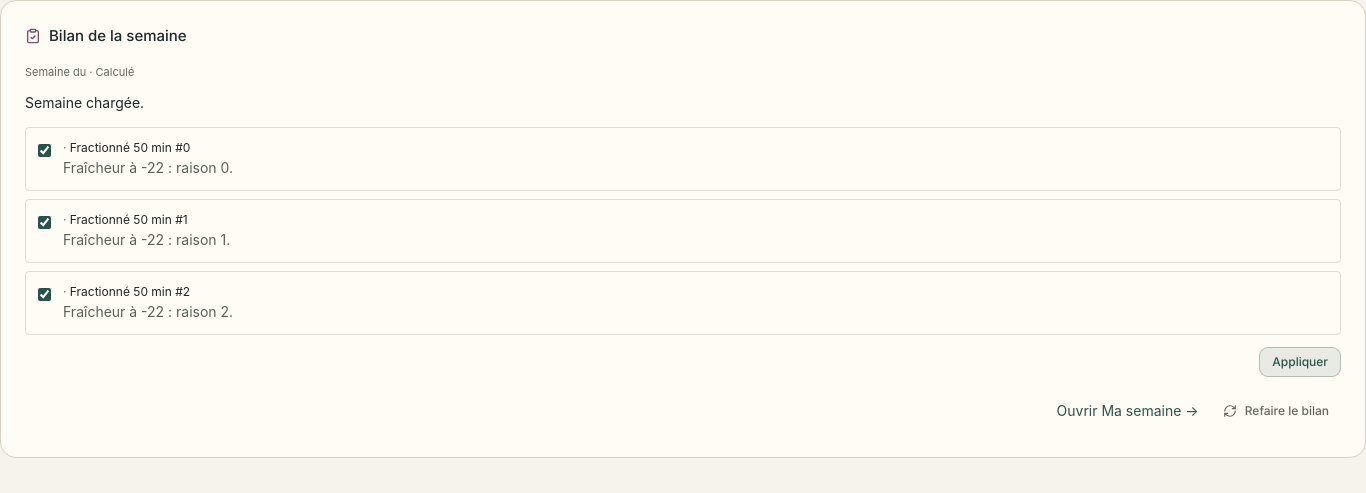
applies the ticked proposals and refreshes the planned sessions
Click the checkbox labelled "· Fractionné 50 min #1 Fraîcheur à -22 : raison 1." at (44, 222), box [38,216,51,229]
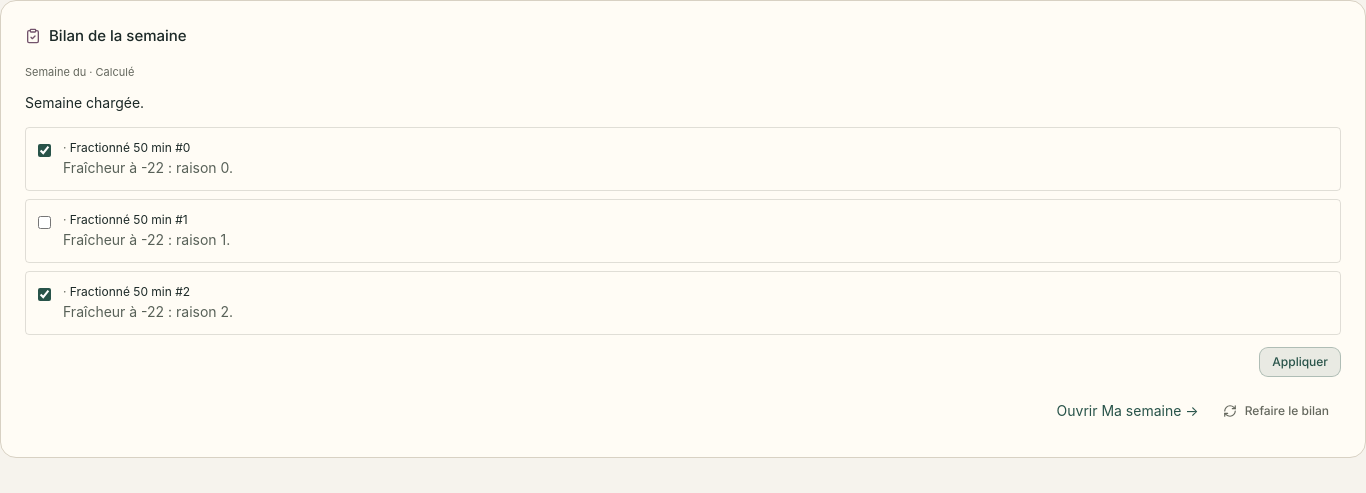
Click the button "Appliquer" at (1300, 362), box [1259,347,1341,377]
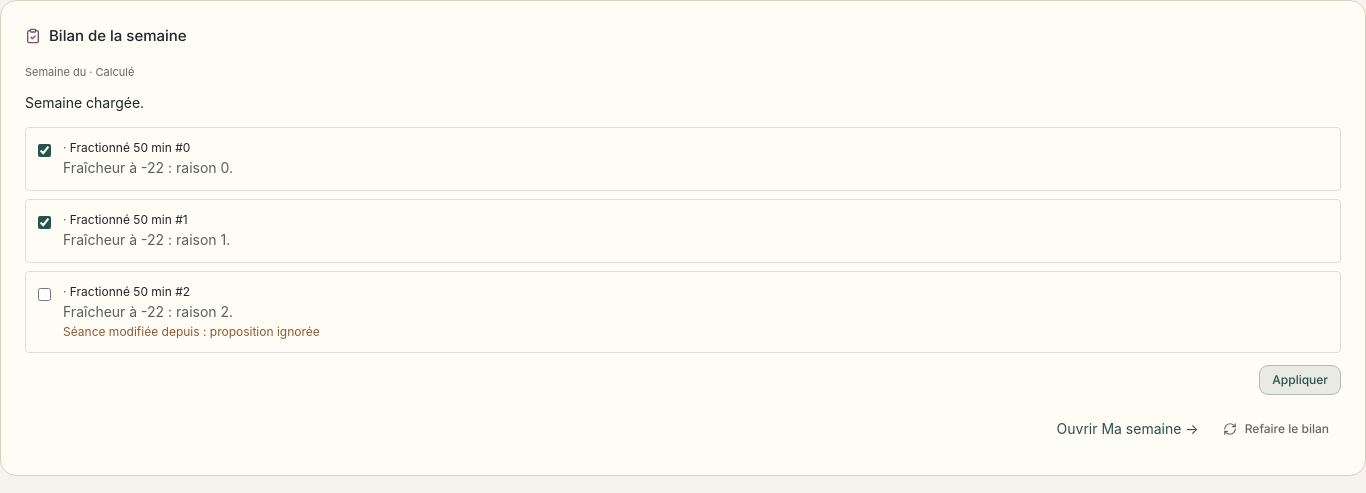
expect the text "Séance modifiée depuis : proposition ignorée" is shown: met, box [63,324,320,340]
